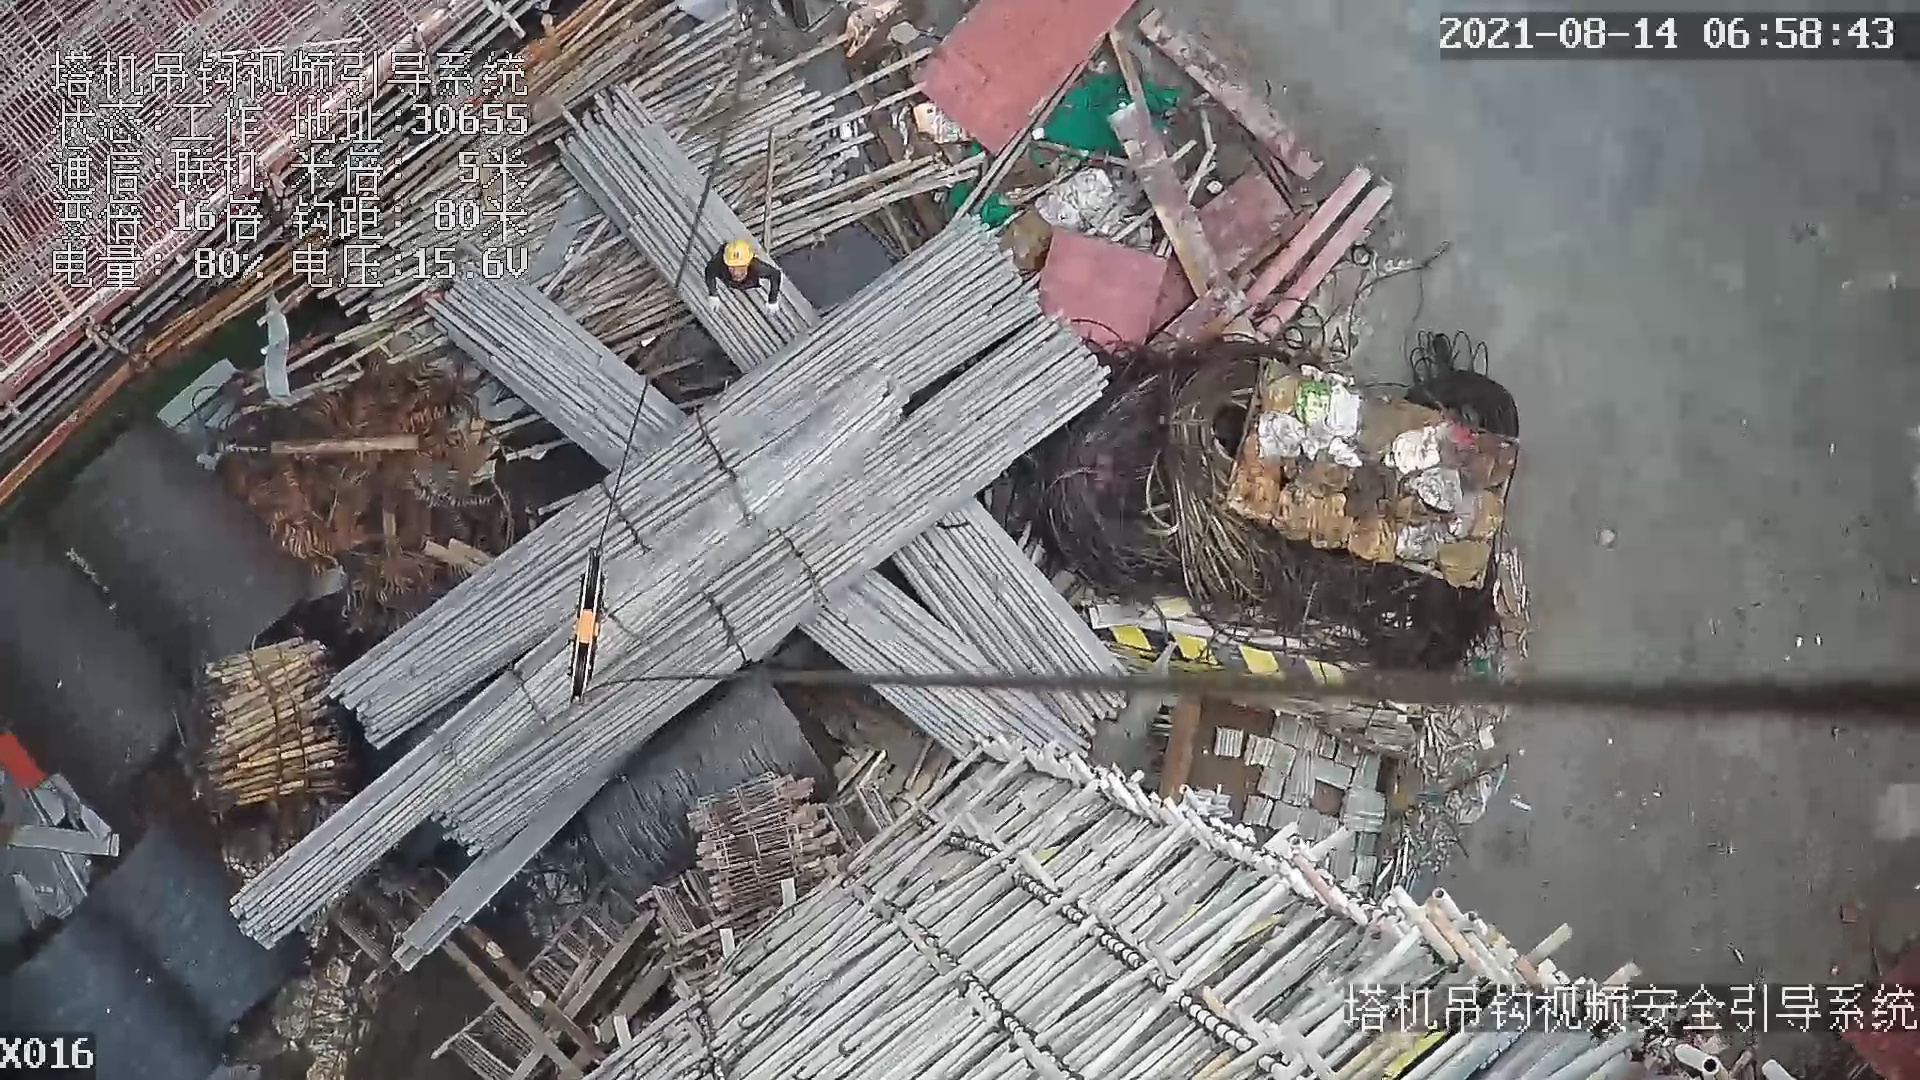helmet: (723, 241, 753, 267)
hook: (562, 544, 608, 713)
person: (703, 242, 778, 319)
rebar: (232, 380, 901, 954), (328, 216, 1040, 754), (552, 79, 1125, 737), (429, 324, 1106, 854), (420, 246, 1092, 764)
scaffold: (201, 635, 346, 808)
